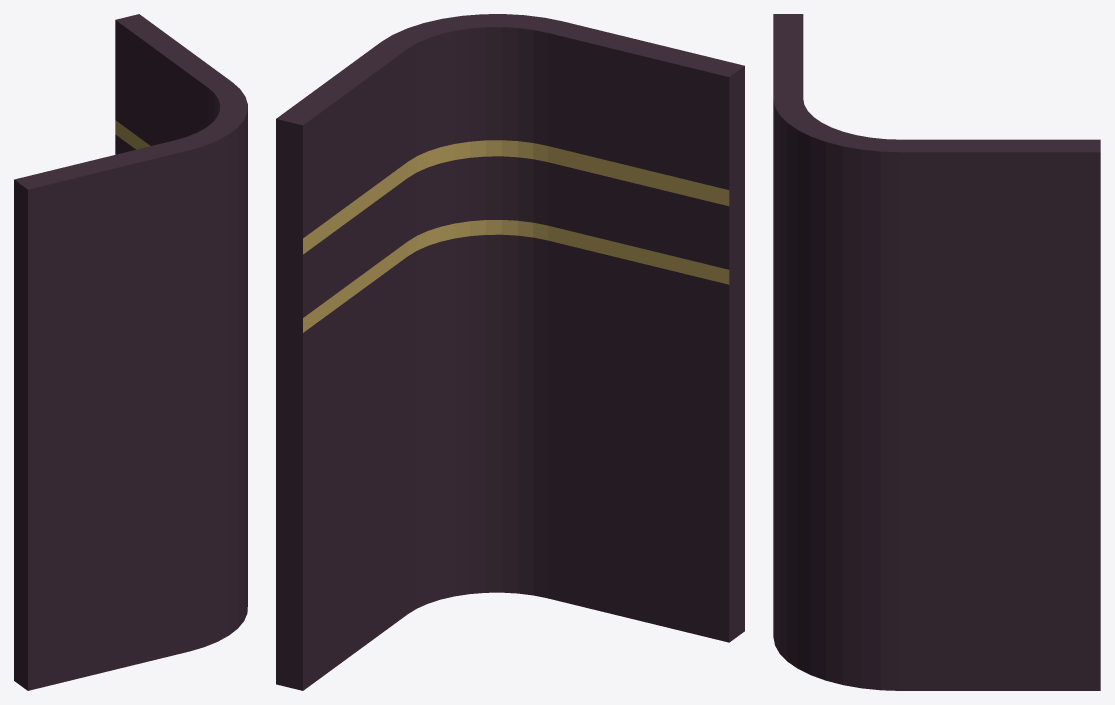
The model's file is correct_corner_wall.fbx.
3 views of the same model, side by side, from view 1: azimuth 30°, elevation 25°; view 2: azimuth 150°, elevation 25°; view 3: azimuth 270°, elevation 25° (orthographic). The views are drawn at different scales.
Visible parts, largest first — view 1: Plane.001; view 2: Plane.001; view 3: Plane.001.
Part boxes in pixels (box(x1,y1,x2,y2)): Plane.001: box(14, 14, 247, 690); Plane.001: box(276, 14, 744, 690); Plane.001: box(773, 14, 1100, 690).
Bounding box in the file's own units: 110 × 200 × 110.
